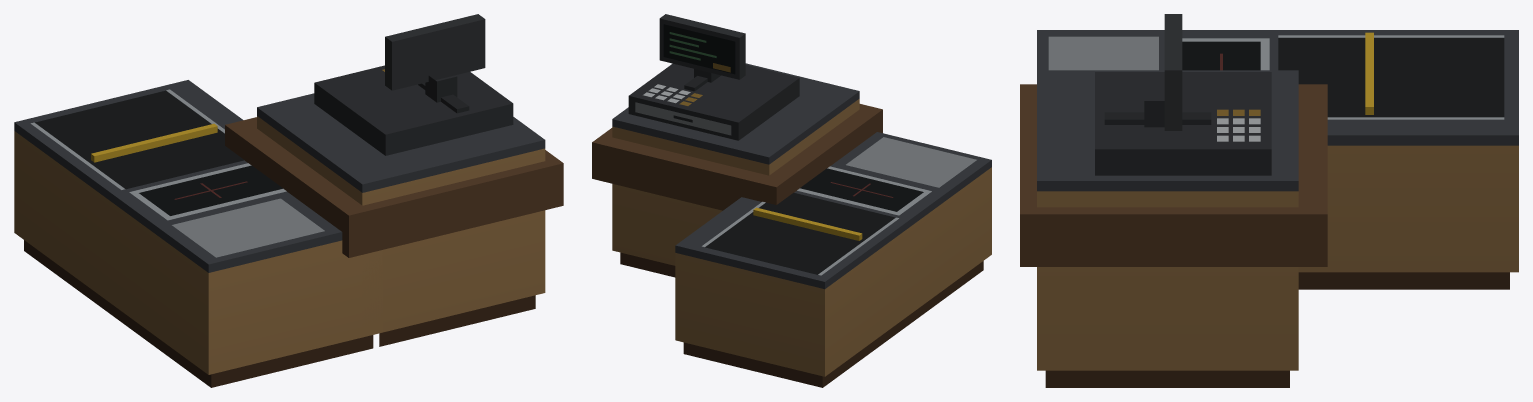
The model's file is shop.checkout.wood.glb.
3 renders of one model, left to right at view 1: azimuth 30°, elevation 25°; view 2: azimuth 150°, elevation 25°; view 3: azimuth 270°, elevation 25°, orthographic. The views are drawn at different scales.
Visible parts, largest first — view 1: shop_checkout_wood; view 2: shop_checkout_wood; view 3: shop_checkout_wood.
Boxes of the visible parts, x1=… form: shop_checkout_wood: x1=14, y1=14, x2=563, y2=387; shop_checkout_wood: x1=592, y1=14, x2=991, y2=387; shop_checkout_wood: x1=1020, y1=14, x2=1518, y2=387.
Size of what is drawn, in the model's own units: 1.72 by 1.2 by 1.72.
